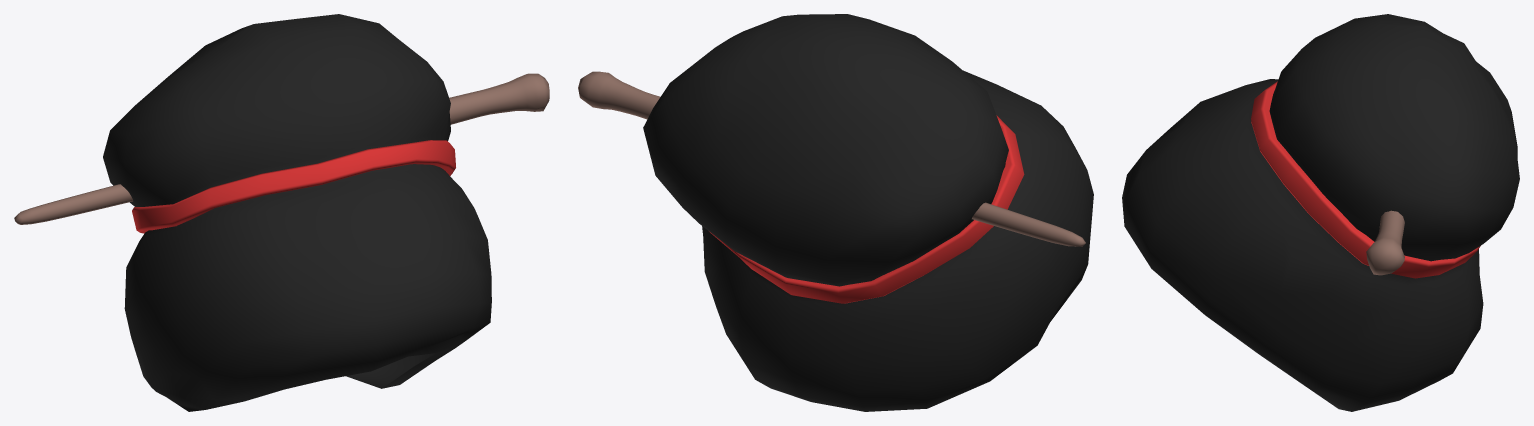
The model's file is Hair_017.glb.
3 views of the same model, side by side, from view 1: azimuth 30°, elevation 25°; view 2: azimuth 150°, elevation 25°; view 3: azimuth 270°, elevation 25° (orthographic). The views are drawn at different scales.
Visible parts, largest first — view 1: Hair_017; view 2: Hair_017; view 3: Hair_017.
Part boxes in pixels (left/top/right/bottom): Hair_017: left=14, top=14, right=549, bottom=411; Hair_017: left=578, top=14, right=1093, bottom=411; Hair_017: left=1122, top=14, right=1519, bottom=411.
Size of the model in its own units: 0.7912 by 0.5172 by 0.5558.
Materials: 1 (1 with a texture image).
